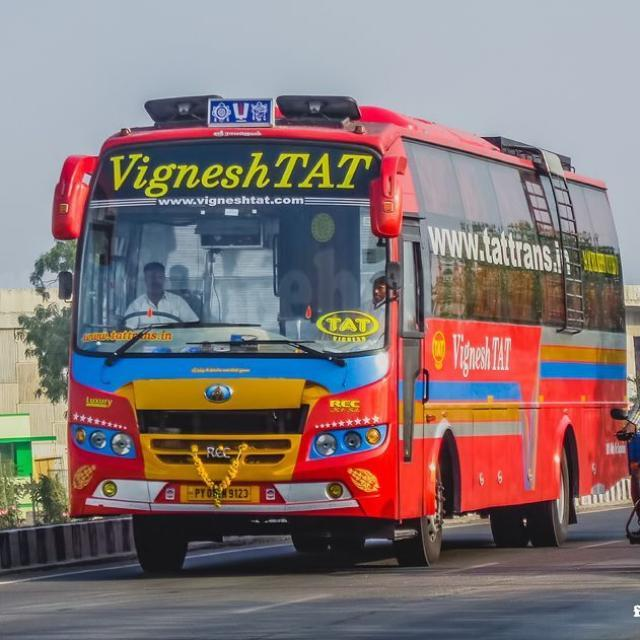Bus: (46, 88, 624, 572)
